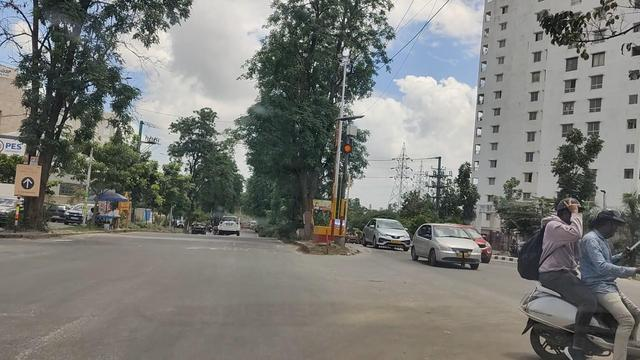RoadDamages: (14, 311, 95, 360)
